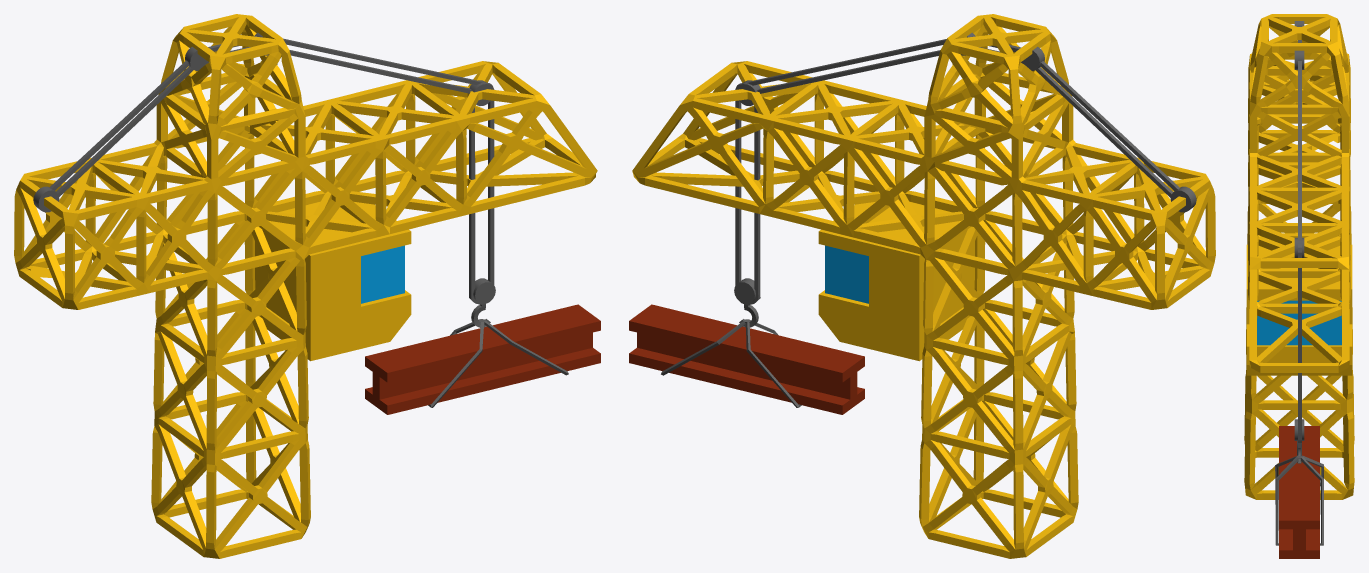
File: building_construction.gltf
3 renders of one model, left to right at view 1: azimuth 30°, elevation 25°; view 2: azimuth 150°, elevation 25°; view 3: azimuth 270°, elevation 25°, orthographic. The views are drawn at different scales.
Parts seen in each view (by area): view 1: Cube.465, Cube.467, Cube.466, Cube.469, Circle.2344, Cube.468; view 2: Cube.465, Cube.467, Cube.466, Cube.469, Circle.2344, Cube.468; view 3: Cube.465, Cube.467, Cube.466, Cube.469, Cube.468, Circle.2344.
Boxes of the visible parts, left/top/right/bottom form: Cube.465: left=14, top=14, right=597, bottom=558; Cube.467: left=365, top=304, right=600, bottom=414; Cube.466: left=255, top=201, right=411, bottom=361; Cube.469: left=49, top=36, right=494, bottom=304; Circle.2344: left=33, top=32, right=495, bottom=327; Cube.468: left=428, top=319, right=568, bottom=407; Cube.465: left=632, top=14, right=1215, bottom=558; Cube.467: left=629, top=304, right=864, bottom=414; Cube.466: left=818, top=201, right=974, bottom=361; Cube.469: left=735, top=36, right=1179, bottom=305; Circle.2344: left=734, top=32, right=1196, bottom=327; Cube.468: left=661, top=319, right=801, bottom=407; Cube.465: left=1244, top=14, right=1354, bottom=499; Cube.467: left=1279, top=426, right=1319, bottom=558; Cube.466: left=1246, top=244, right=1352, bottom=375; Cube.469: left=1298, top=25, right=1301, bottom=442; Cube.468: left=1275, top=455, right=1323, bottom=545; Circle.2344: left=1294, top=21, right=1304, bottom=463.
Size of the model in its own units: 2.35 by 2 by 0.4458.
Materials: 1 (1 with a texture image).
